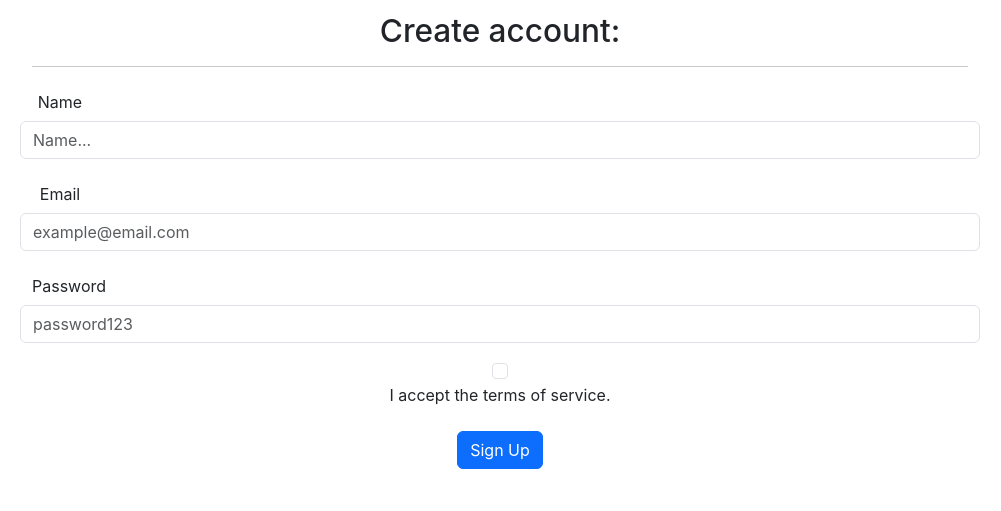
Create Form Testleri › Email Engel Testi
Step 1. Type "waffle@syrup.com" into the field with id "email-input" → (500, 232), box left=20, top=213, right=980, bottom=251
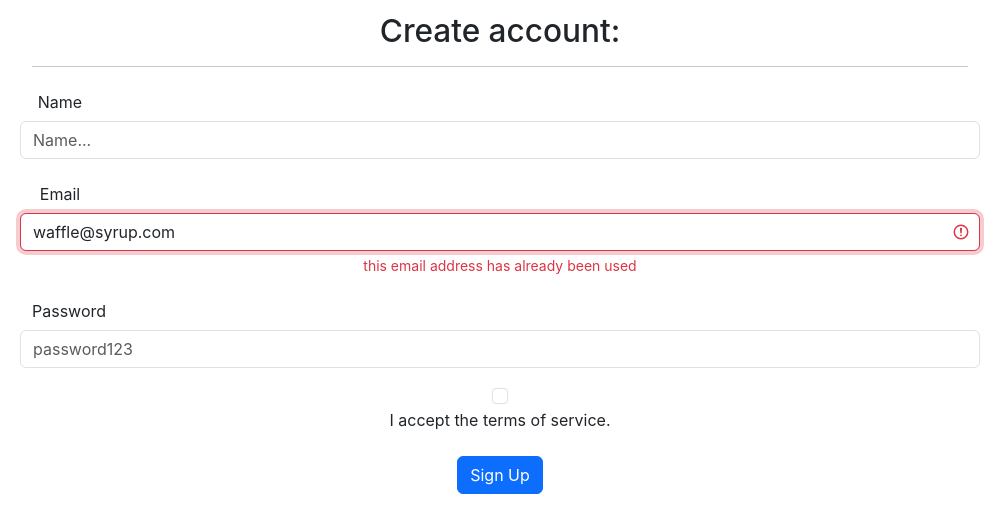
Check: the text "this email address has already been used" is shown, box left=363, top=257, right=637, bottom=274
Check: the text with id "email-validation" reads "this email address has already been used", box left=363, top=257, right=636, bottom=274
